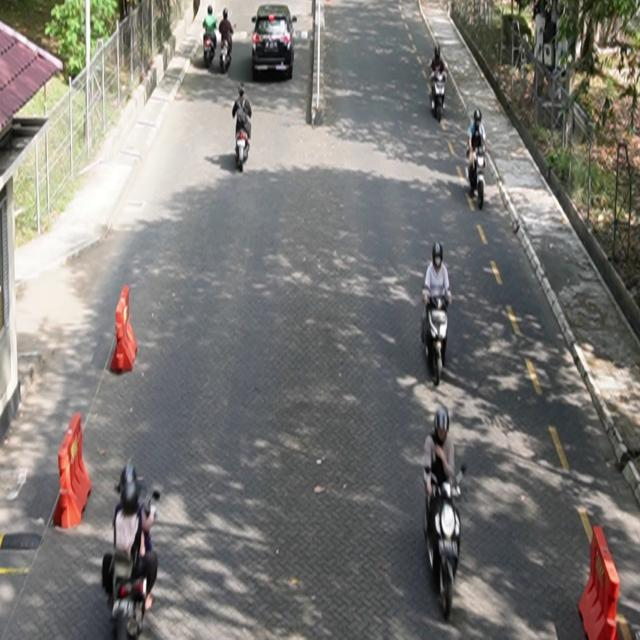car: (252, 4, 298, 81)
